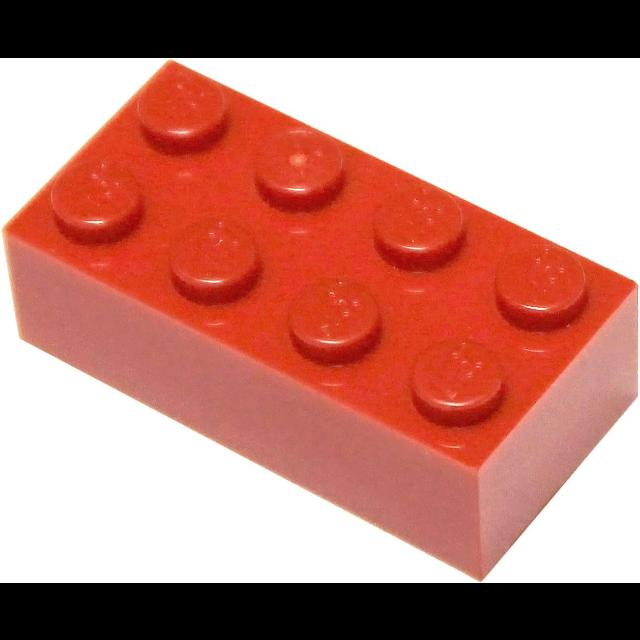2x4: (4, 61, 638, 577)
